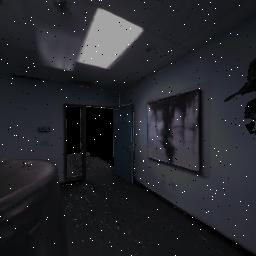door: (110, 97, 143, 192)
door-frame: (75, 100, 121, 190)
